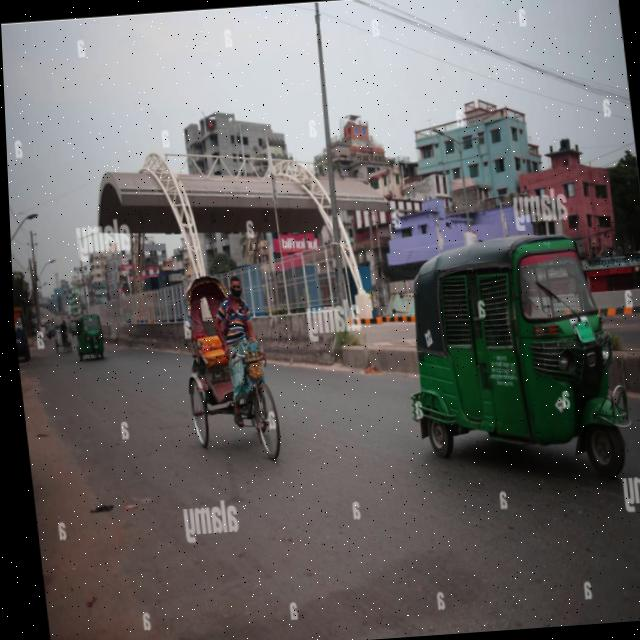cng: (362, 178, 631, 516)
rikshaw: (113, 242, 339, 488)
